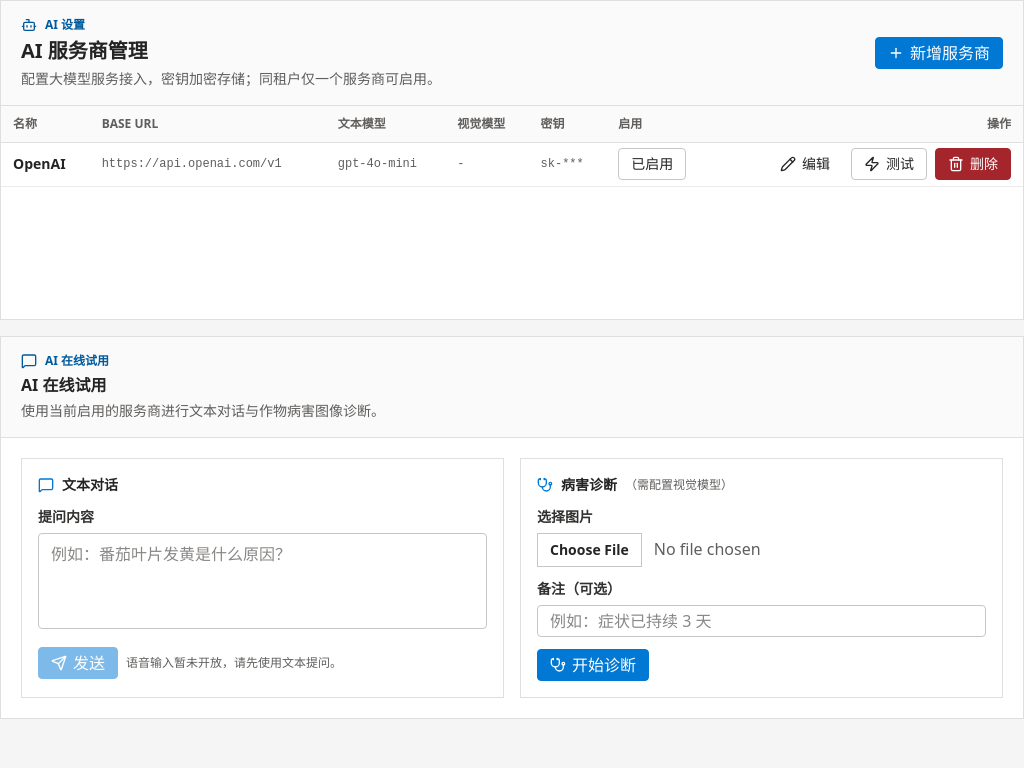
Test: AiProviders Fluent settings › shows provider test progress and success result
Expected: the text "OpenAI" is shown, [13, 154, 66, 173]
Click the button with aria-label "测试 OpenAI" at (889, 164), box [851, 148, 927, 180]
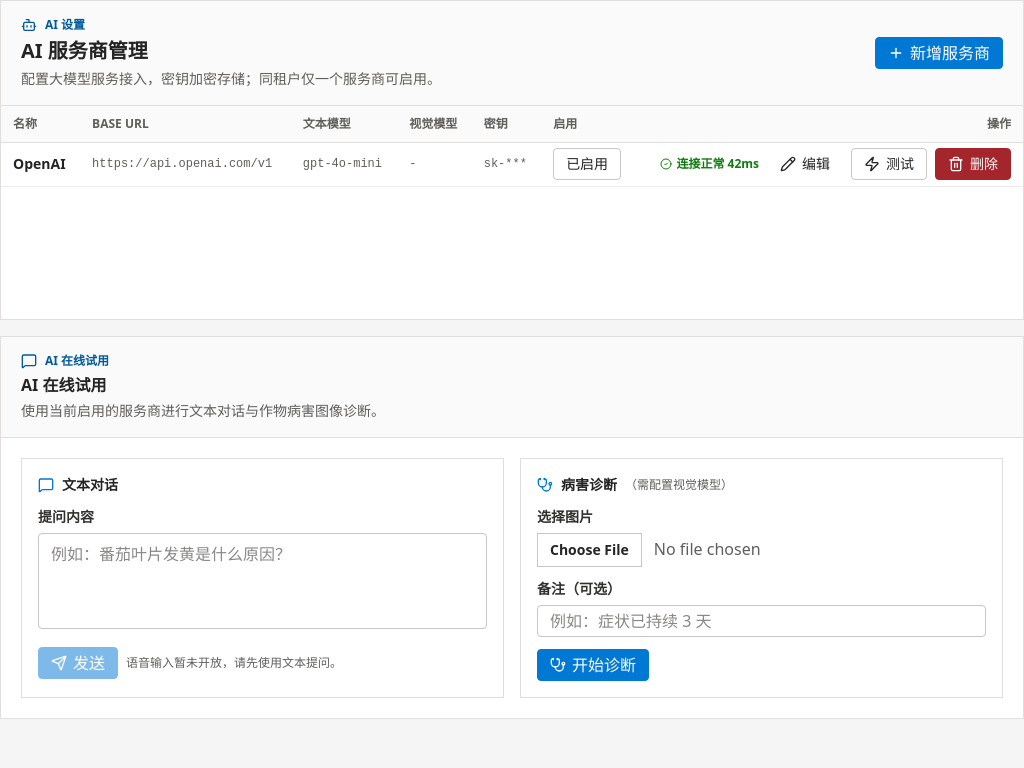
Expected: the text "连接正常 42ms" is shown, [660, 156, 759, 172]
